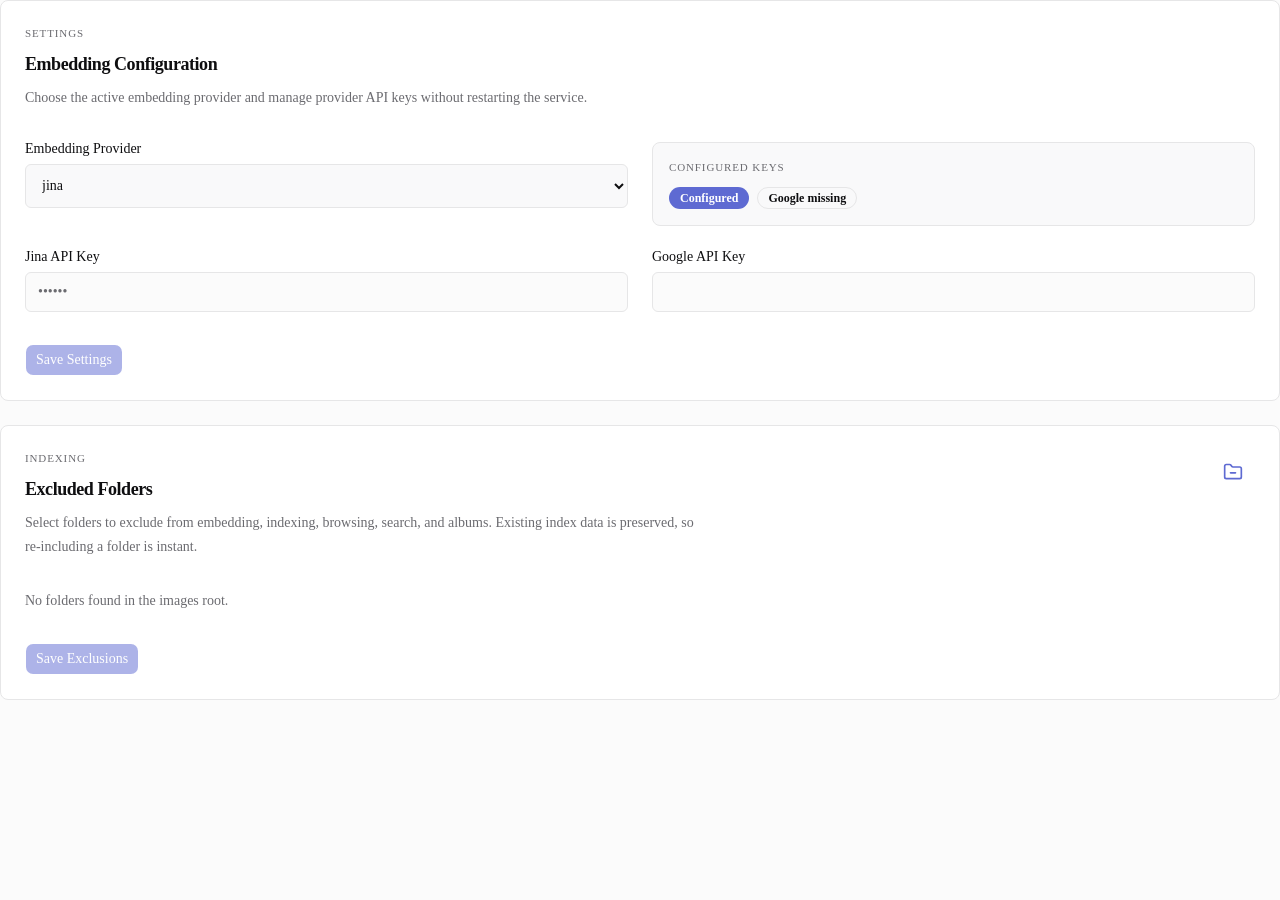
Test: SettingsPage › disables save and shows validation when a dirty key is cleared
In the password field labelled "Jina API Key": (326, 292) [25, 272, 628, 312], type "abc"
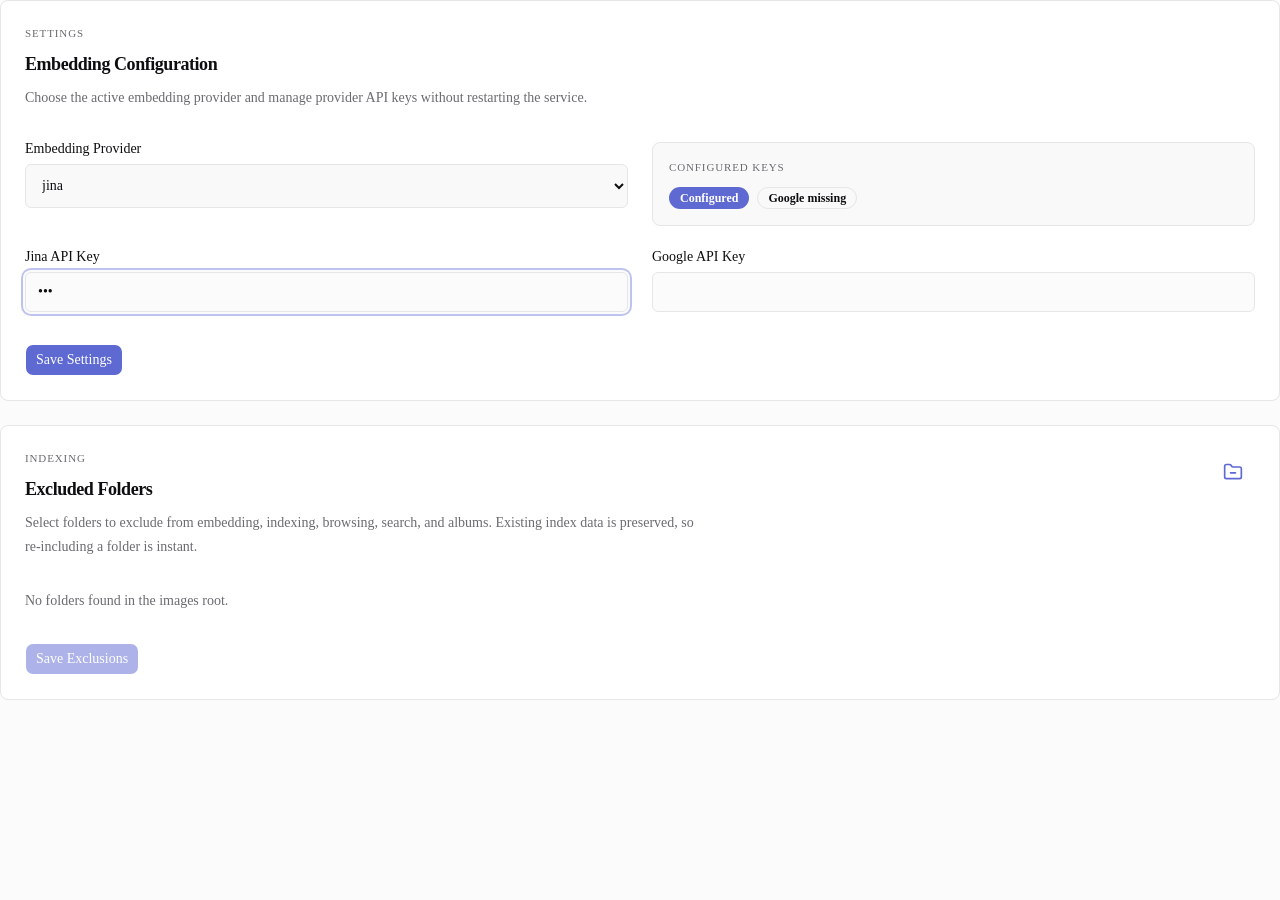
Clear the password field labelled "Jina API Key": (326, 292) [25, 272, 628, 312]
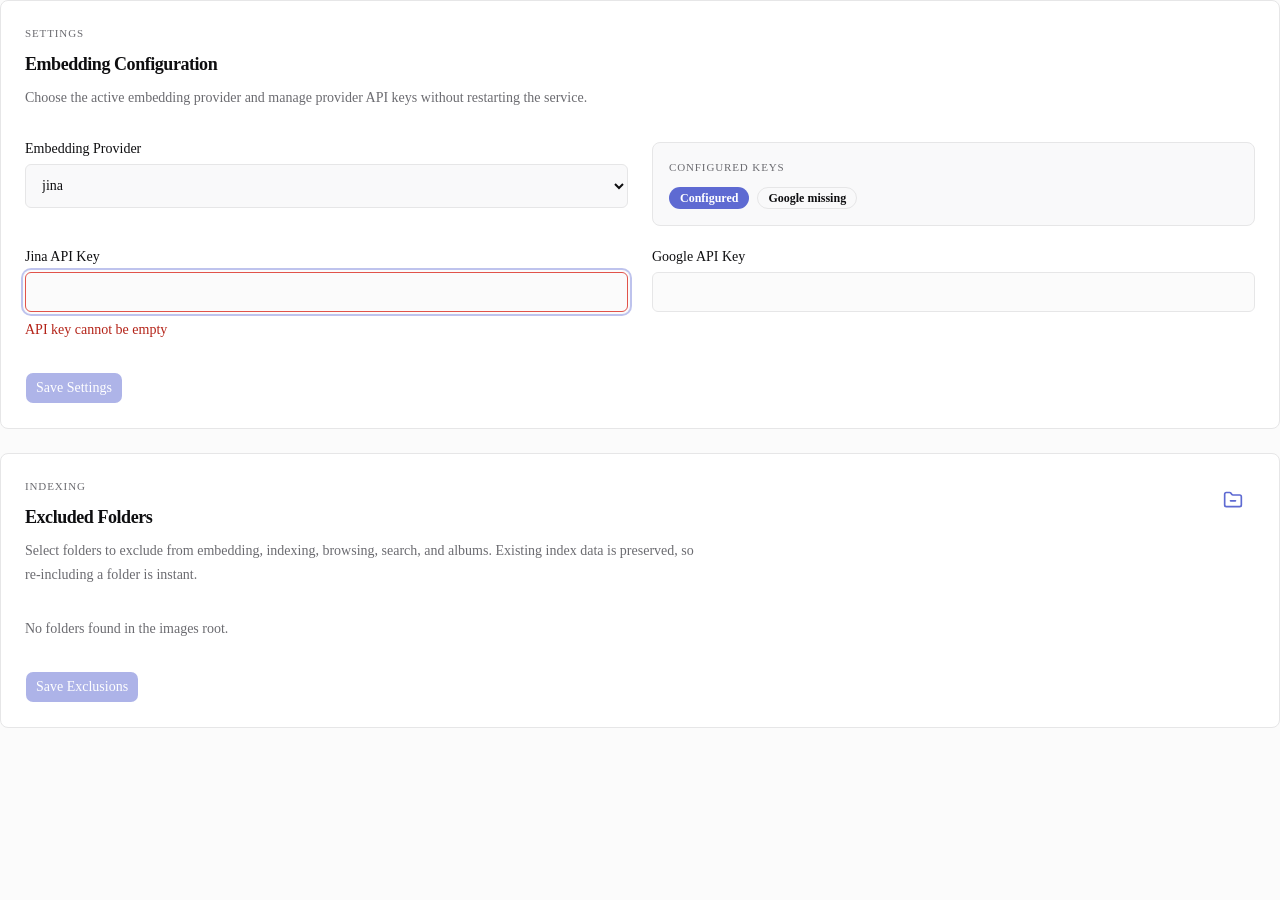
Expected: the text "API key cannot be empty" is shown, [25, 322, 167, 337]
Expected: the button "Save Settings" is disabled, [25, 372, 123, 404]
